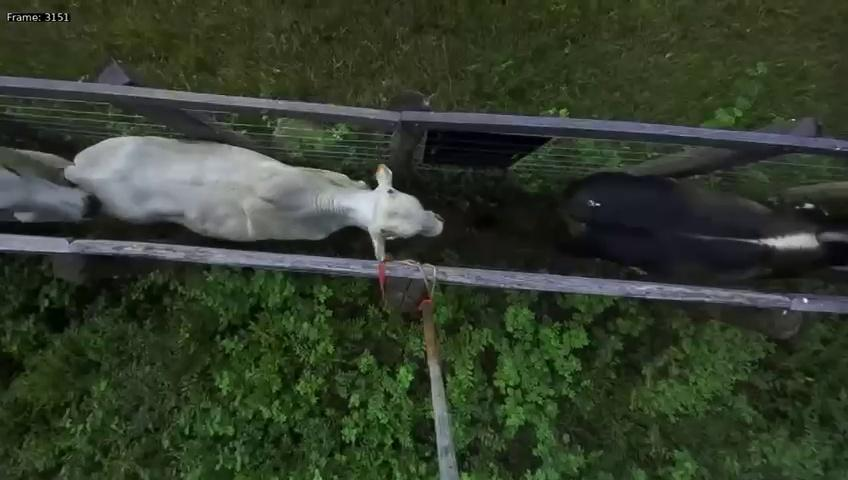cattle: (56, 130, 444, 264), (550, 161, 848, 288)
